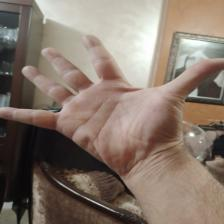five: (4, 32, 219, 156)
